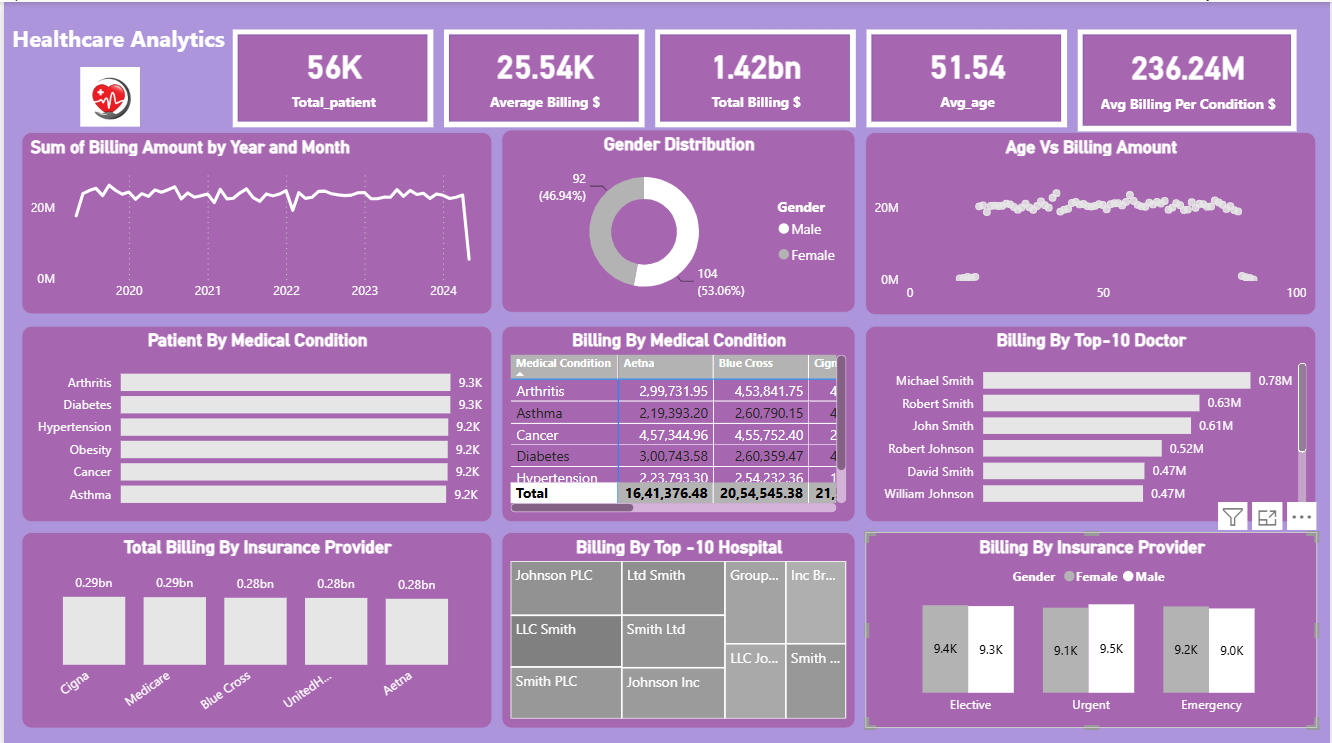

This screenshot's page, from the dashboard's own definition file:
{"tool":"powerbi","page":{"name":"Page 1","canvas":[1280,720],"ordinal":0},"visuals":[{"type":"cardVisual","fields":{"Data":["healthcare_dataset.Avg_billing_per_condition"]},"box":[1036,26.1,211.3,98.8],"z":1000},{"type":"cardVisual","fields":{"Data":["healthcare_dataset.Total_patient"]},"box":[220.4,26.1,193.5,94.7],"z":2000},{"type":"cardVisual","fields":{"Data":["healthcare_dataset.Avg_billing"]},"box":[424.3,26.1,193.5,94.7],"z":3000},{"type":"cardVisual","fields":{"Data":["healthcare_dataset.total_billing"]},"box":[628.2,26.1,193.5,94.7],"z":4000},{"type":"cardVisual","fields":{"Data":["healthcare_dataset.Avg_age"]},"box":[832.1,26.1,193.5,94.7],"z":5000},{"type":"lineChart","fields":{"Y":["Sum(healthcare_dataset.Billing Amount)"],"Category":["healthcare_dataset.Date of Admission.Variation.Date Hierarchy.Year","healthcare_dataset.Date of Admission.Variation.Date Hierarchy.Month"]},"box":[16.5,124.9,454.2,175.6],"z":6000},{"type":"clusteredBarChart","title":"Patient By Medical Condition","fields":{"Category":["healthcare_dataset.Medical Condition"],"Y":["CountNonNull(healthcare_dataset.Name)"]},"box":[16.5,312.9,454.2,189.4],"z":7000},{"type":"clusteredColumnChart","title":"Total Billing By Insurance Provider","fields":{"Category":["healthcare_dataset.Insurance Provider"],"Y":["Sum(healthcare_dataset.Billing Amount)"]},"box":[16.5,511.8,454.2,189.4],"z":8000},{"type":"clusteredBarChart","title":"Total Billing By Doctor- Top-10","fields":{"Category":["healthcare_dataset.Doctor"],"Y":["Sum(healthcare_dataset.Billing Amount)"]},"box":[831.6,312.9,435,189.4],"z":9000},{"type":"clusteredColumnChart","title":"Total Billing By Insurance Provider","fields":{"Category":["healthcare_dataset.Admission Type"],"Y":["CountNonNull(healthcare_dataset.Name)"],"Series":["healthcare_dataset.Gender"]},"box":[831.6,511.8,436.4,189.4],"z":10000},{"type":"donutChart","title":"Gender Distribution","fields":{"Category":["healthcare_dataset.Gender"],"Y":["CountNonNull(healthcare_dataset.Name)"]},"box":[480.3,123.5,341.7,177],"z":11000},{"type":"scatterChart","title":"Age Vs Billing Amount","fields":{"X":["healthcare_dataset.Age"],"Y":["Sum(healthcare_dataset.Billing Amount)"]},"box":[831.6,124.9,435,177],"z":12000},{"type":"treemap","title":"Biling By Hospital Top -10","fields":{"Values":["Sum(healthcare_dataset.Billing Amount)"],"Group":["healthcare_dataset.Hospital"]},"box":[480.3,511.8,341.7,189.4],"z":13000},{"type":"pivotTable","title":"Biling By Hospital Top -10","fields":{"Rows":["healthcare_dataset.Medical Condition"],"Columns":["healthcare_dataset.Insurance Provider"],"Values":["Sum(healthcare_dataset.Billing Amount)"]},"box":[480.3,312.9,341.7,189.4],"z":14000},{"type":"image","box":[0,57.6,204.5,67.2],"z":14001},{"type":"textbox","box":[0,15.1,220.9,59],"z":14002}]}

Visuals, with their boxes in screenshot pixels (x1, y1, x2, y2), scaled from the page's 1280x720 canvas onto the 1332x743 screenshot:
cardVisual - healthcare_dataset.Avg_billing_per_condition: region(1078, 27, 1298, 129)
cardVisual - healthcare_dataset.Total_patient: region(229, 27, 431, 125)
cardVisual - healthcare_dataset.Avg_billing: region(442, 27, 643, 125)
cardVisual - healthcare_dataset.total_billing: region(654, 27, 855, 125)
cardVisual - healthcare_dataset.Avg_age: region(866, 27, 1067, 125)
lineChart - Sum(healthcare_dataset.Billing Amount) x healthcare_dataset.Date of Admission.Variation.Date Hierarchy.Year: region(17, 129, 490, 310)
"Patient By Medical Condition" clusteredBarChart: region(17, 323, 490, 518)
"Total Billing By Insurance Provider" clusteredColumnChart: region(17, 528, 490, 724)
"Total Billing By Doctor- Top-10" clusteredBarChart: region(865, 323, 1318, 518)
"Total Billing By Insurance Provider" clusteredColumnChart: region(865, 528, 1320, 724)
"Gender Distribution" donutChart: region(500, 127, 855, 310)
"Age Vs Billing Amount" scatterChart: region(865, 129, 1318, 312)
"Biling By Hospital Top -10" treemap: region(500, 528, 855, 724)
"Biling By Hospital Top -10" pivotTable: region(500, 323, 855, 518)
image: region(0, 59, 213, 129)
textbox: region(0, 16, 230, 76)
